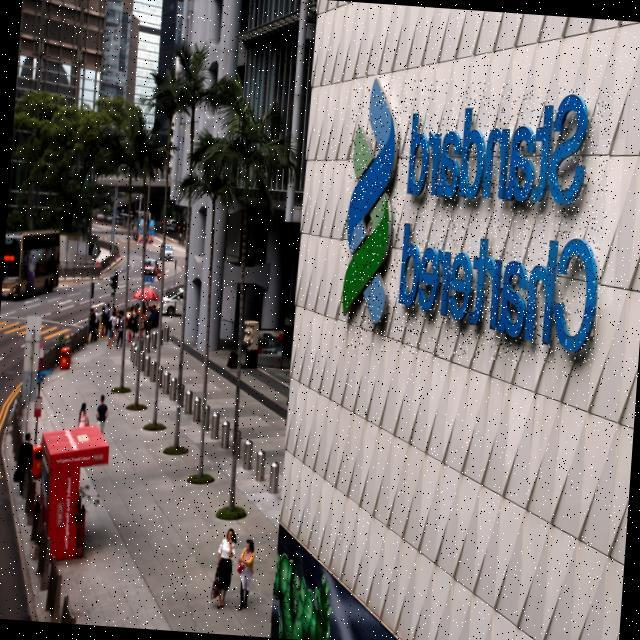Standard Chartered: (335, 74, 614, 367)
